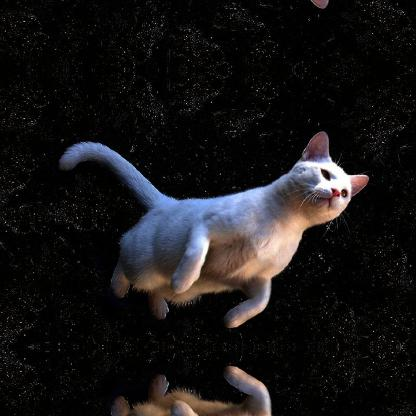Cat: (57, 130, 371, 330), (57, 362, 372, 415)
